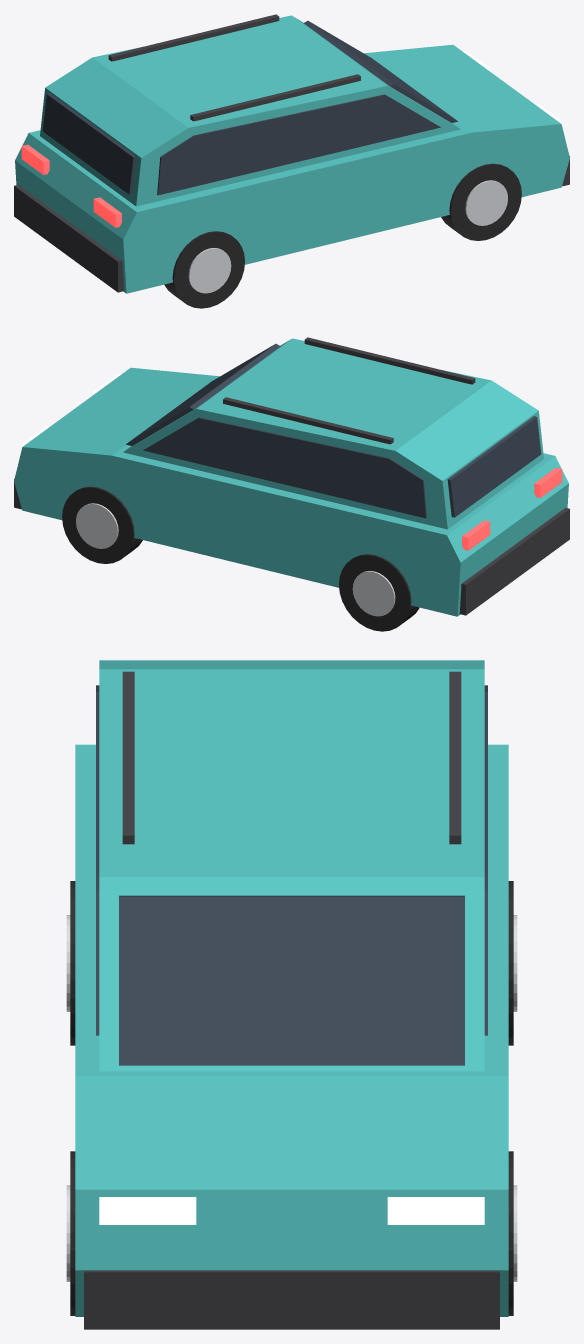
The model's file is car.glb.
3 views of the same model, one above another, from view 1: azimuth 30°, elevation 25°; view 2: azimuth 150°, elevation 25°; view 3: azimuth 270°, elevation 25° (orthographic). The views are drawn at different scales.
Visible parts, largest first — view 1: body_lower, cabin, glass_sides, tire (×2), rear_glass, bumper_rear, rim (×2), windshield, roof_rails_r, roof_rails_l, taillight (×2); view 2: body_lower, cabin, glass_sides, tire (×2), rear_glass, bumper_rear, rim (×2), windshield, roof_rails_l, roof_rails_r, taillight (×2); view 3: cabin, body_lower, windshield, bumper_front, headlight (×2), tire (×4), glass_sides, roof_rails_l, roof_rails_r.
Boxes of the visible parts, x1=… form: body_lower: x1=15, y1=44, x2=569, y2=293; cabin: x1=40, y1=15, x2=460, y2=206; glass_sides: x1=157, y1=94, x2=440, y2=195; tire (×2): x1=164, y1=163, x2=521, y2=308; rear_glass: x1=42, y1=93, x2=136, y2=194; bumper_rear: x1=14, y1=184, x2=124, y2=292; rim (×2): x1=188, y1=180, x2=507, y2=293; windshield: x1=304, y1=20, x2=457, y2=122; roof_rails_r: x1=108, y1=14, x2=279, y2=61; roof_rails_l: x1=190, y1=74, x2=360, y2=121; taillight (×2): x1=21, y1=144, x2=121, y2=227; body_lower: x1=14, y1=367, x2=568, y2=616; cabin: x1=123, y1=338, x2=543, y2=529; glass_sides: x1=143, y1=417, x2=426, y2=518; tire (×2): x1=62, y1=486, x2=419, y2=631; rear_glass: x1=447, y1=416, x2=541, y2=517; bumper_rear: x1=459, y1=507, x2=569, y2=615; rim (×2): x1=76, y1=503, x2=395, y2=616; windshield: x1=126, y1=343, x2=279, y2=445; roof_rails_l: x1=304, y1=337, x2=475, y2=384; roof_rails_r: x1=223, y1=397, x2=393, y2=444; taillight (×2): x1=462, y1=467, x2=562, y2=550; cabin: x1=99, y1=660, x2=484, y2=1071; body_lower: x1=75, y1=744, x2=508, y2=1316; windshield: x1=119, y1=895, x2=464, y2=1065; bumper_front: x1=84, y1=1270, x2=499, y2=1329; headlight (×2): x1=99, y1=1197, x2=484, y2=1224; tire (×4): x1=70, y1=881, x2=513, y2=1315; glass_sides: x1=96, y1=685, x2=487, y2=1035; roof_rails_l: x1=122, y1=671, x2=134, y2=844; roof_rails_r: x1=449, y1=671, x2=461, y2=844.
Bounding box in the file's own units: 4.31 × 1.65 × 1.86.
